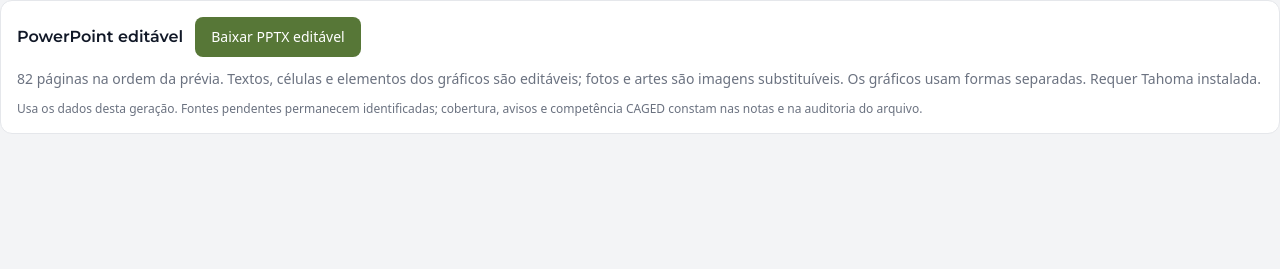
it: Maceió exportação na interface › exporta uma única vez, com 82 páginas e auditoria sem chave de sessão
Later steps or results of the test are not shown.
Click the button "Baixar PPTX editável": [278, 37] box [195,17,361,57]
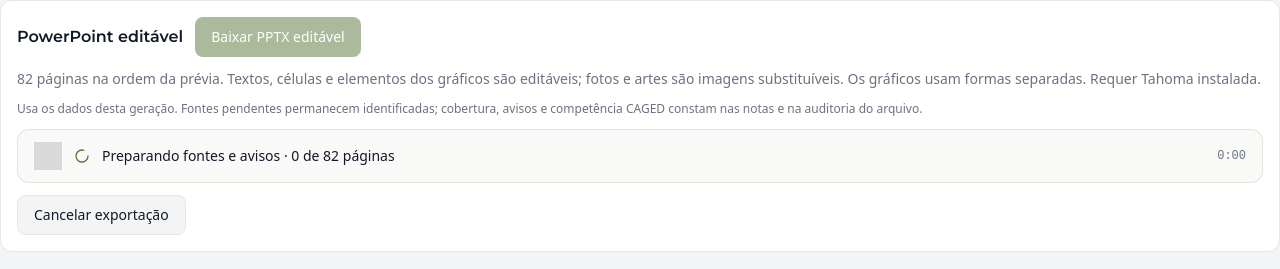
Click the button "Baixar PPTX editável": [278, 37] box [195,17,361,57]
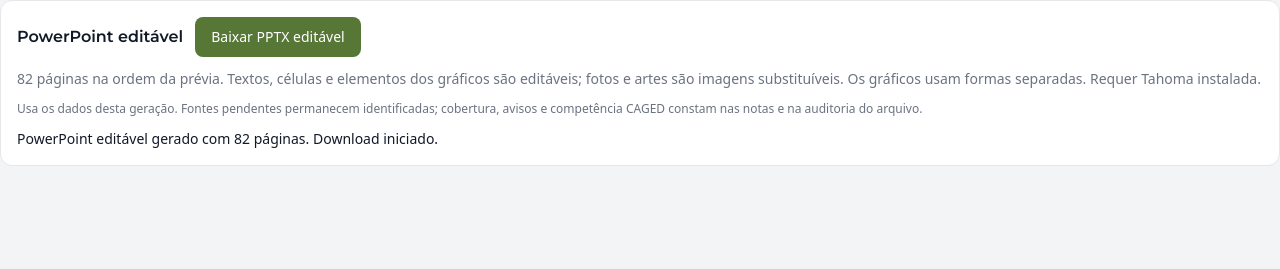
Expected: the message shows "82 páginas", [17,129,438,148]
